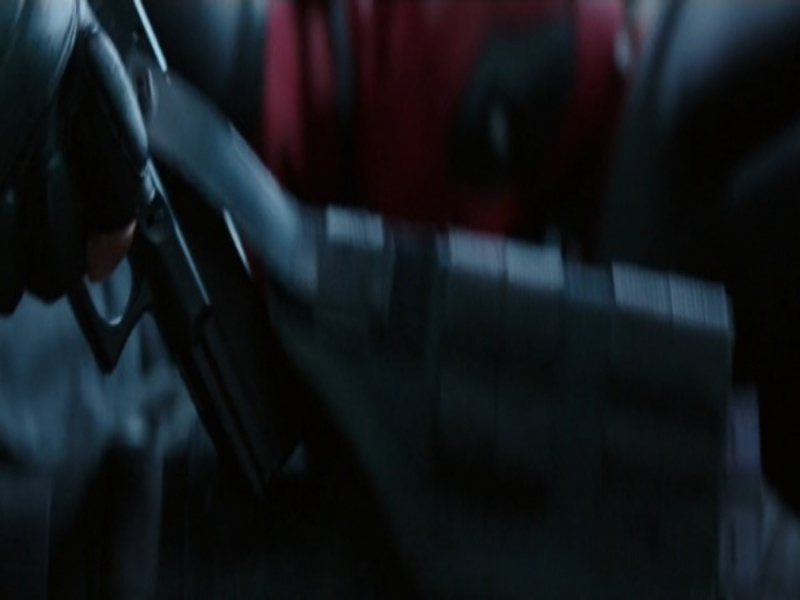weapon: (53, 40, 306, 490)
